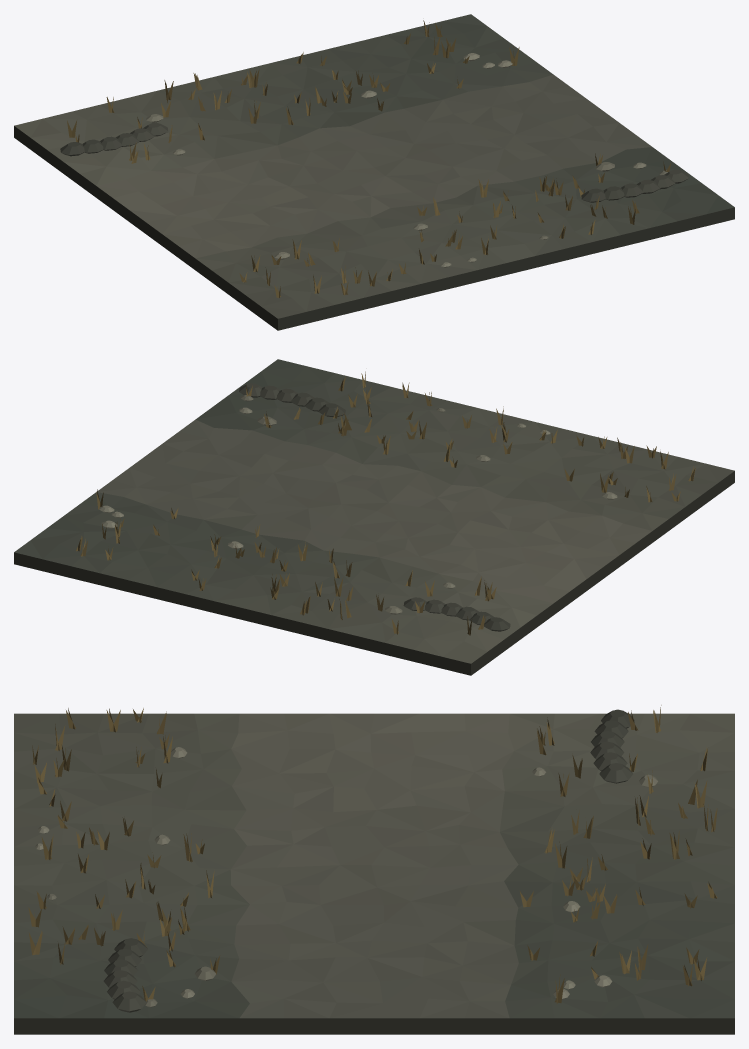
File: CHUNK_TRANS_ash_grassland__bell_mire__0.glb
3 renders of one model, top to bottom at view 1: azimuth 30°, elevation 25°; view 2: azimuth 150°, elevation 25°; view 3: azimuth 270°, elevation 25°, orthographic. The views are drawn at different scales.
Parts seen in each view (by area): view 1: CHUNK_TRANS_ash_grassland__bell_mire__0; view 2: CHUNK_TRANS_ash_grassland__bell_mire__0; view 3: CHUNK_TRANS_ash_grassland__bell_mire__0.
Boxes of the visible parts, left/top/right/bottom form: CHUNK_TRANS_ash_grassland__bell_mire__0: left=14, top=14, right=734, bottom=330; CHUNK_TRANS_ash_grassland__bell_mire__0: left=14, top=359, right=734, bottom=675; CHUNK_TRANS_ash_grassland__bell_mire__0: left=14, top=705, right=734, bottom=1034.
Bounding box in the file's own units: 8 × 0.5527 × 8.
